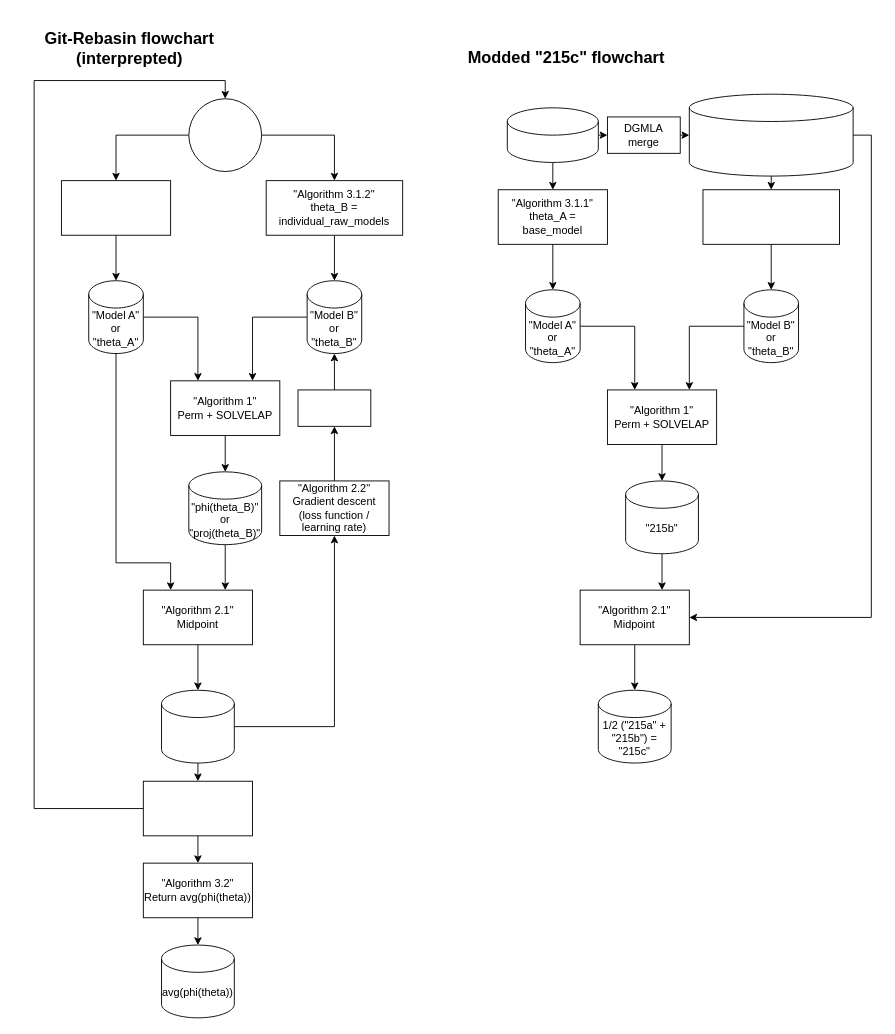
Some shapes in this 895 by 1034 pixel diagram are drawn without their labels. The centre of each missing label's shape, as x and y in pixels:
"Algorithm 2.3 (?)" Return phi(theta): (197,808)
"Algorithm 3.1.1" theta_A = avg(all_raw_models): (116,207)
"Algorithm 3.1.2" theta_B = 2 x nice_model - base_model: (770,216)
1/2 (theta_A + phi(theta_B)): (197,726)
base_model = SDXL 1.0: (552,134)
Loop of "Algorithm 3": (225,135)
nice_model = "215a" = DGMLA (base_model, 216x individual_raw_models): (770,134)
theta_B = hat_theta_B: (334,407)
